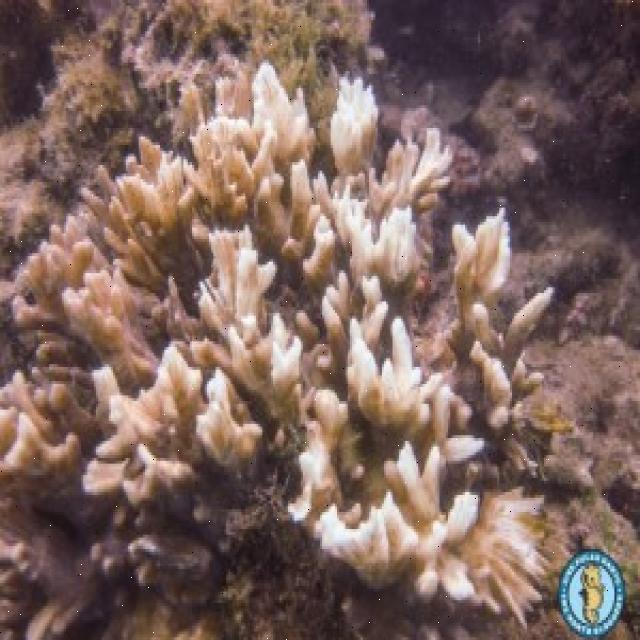Bleached: (1, 64, 555, 498), (325, 418, 546, 611)
Healthy: (2, 497, 305, 639), (553, 197, 640, 638), (483, 11, 640, 187), (1, 5, 143, 152), (174, 1, 373, 69)
